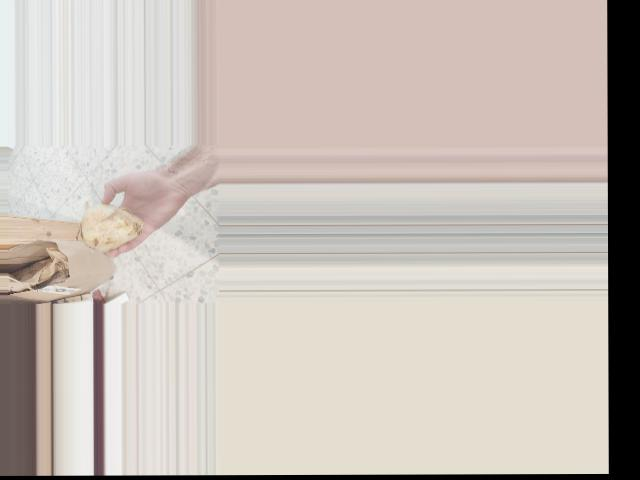onion: (74, 202, 148, 253)
